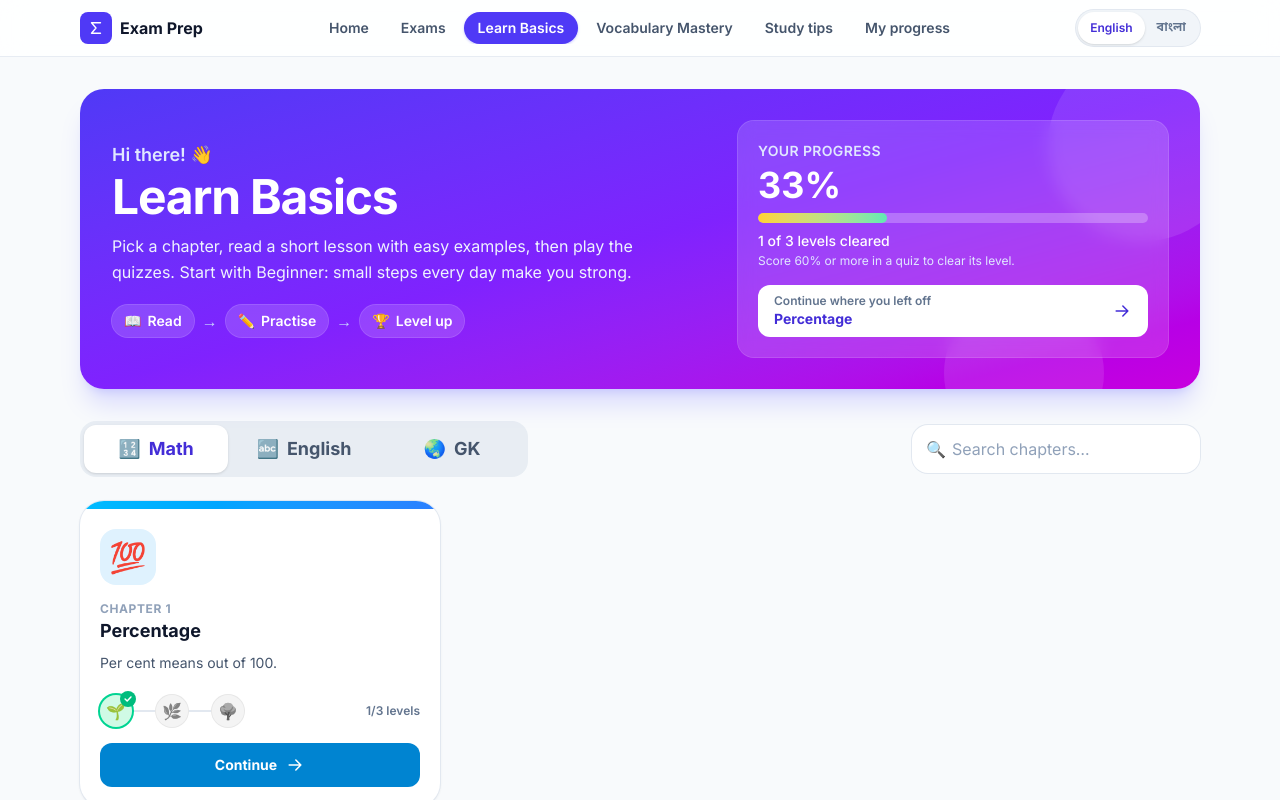
it: learn › Learn Basics shows progress, a "continue" link to the last chapter, and chapter search
Expected: the text "1/3 levels" is shown, left=366, top=702, right=420, bottom=718
Expected: the text "Continue" is shown, left=215, top=754, right=277, bottom=774
In the search field: (1056, 449) left=912, top=425, right=1200, bottom=473, type "zzz"
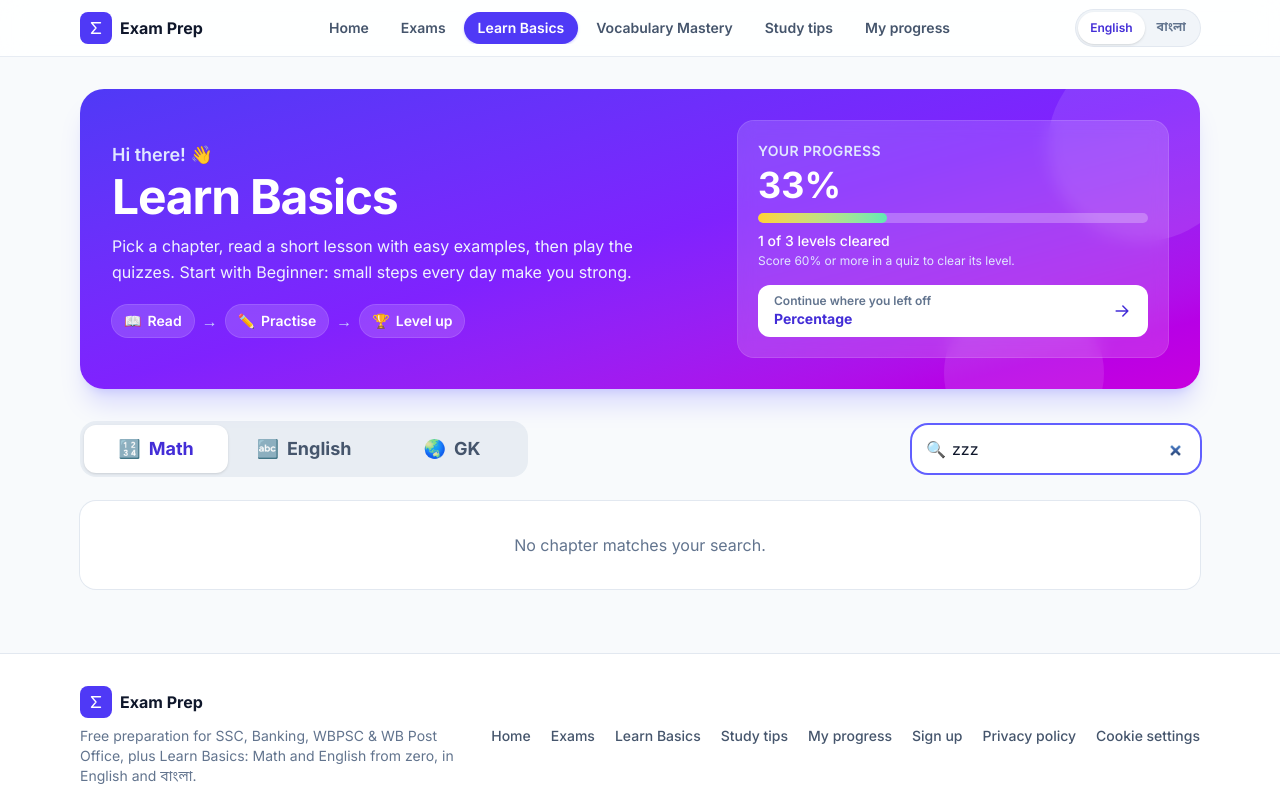
Result: the text "No chapter matches your search." is shown at left=80, top=501, right=1200, bottom=589
